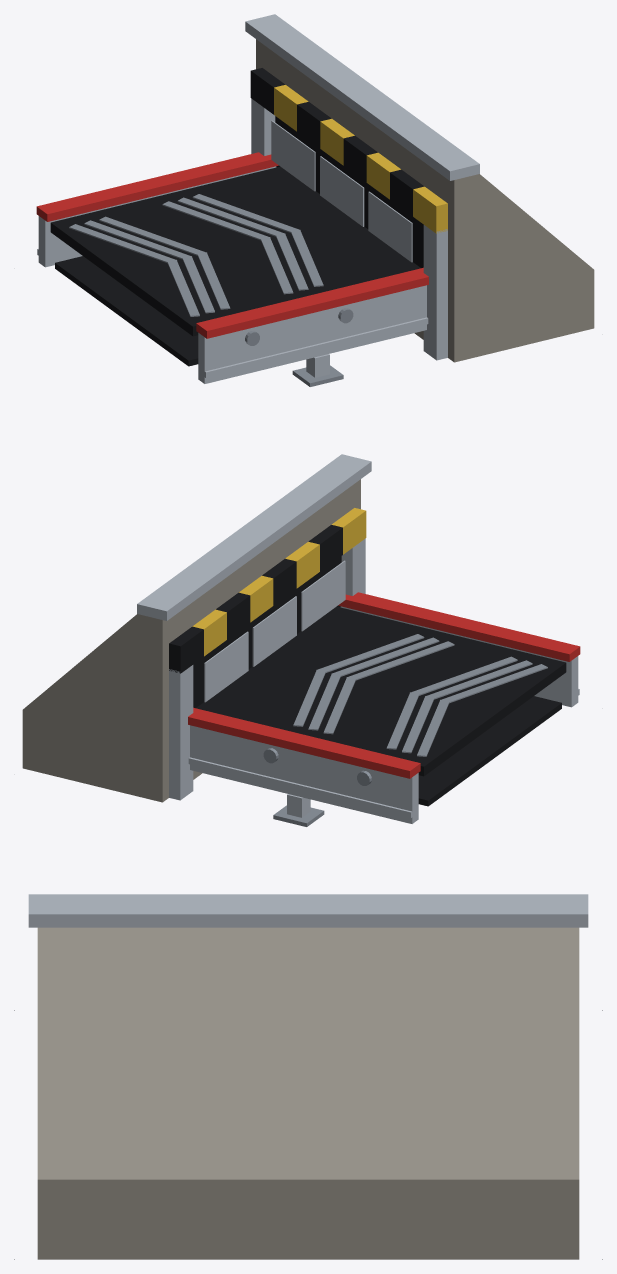
The model's file is convoyeur_tunnel_entree_t3.glb.
3 views of the same model, one above another, from view 1: azimuth 30°, elevation 25°; view 2: azimuth 150°, elevation 25°; view 3: azimuth 270°, elevation 25° (orthographic). The views are drawn at different scales.
Parts seen in each view (by area): view 1: pieces_noir.030, pieces_gris_clair.016, bouche.012, pieces_rive_t3.006, bande_acier.048, pieces_jaune.024, pieces_acier.054; view 2: pieces_noir.030, pieces_gris_clair.016, bouche.012, pieces_rive_t3.006, bande_acier.048, pieces_jaune.024, pieces_acier.054; view 3: bouche.012, pieces_gris_clair.016.
Part boxes in pixels (box(x1,y1,x2,y2)): pieces_noir.030: box(50, 68, 424, 366); pieces_gris_clair.016: box(37, 14, 479, 383); bouche.012: box(256, 39, 594, 362); pieces_rive_t3.006: box(36, 152, 428, 338); bande_acier.048: box(69, 194, 323, 316); pieces_jaune.024: box(274, 85, 447, 233); pieces_acier.054: box(245, 308, 353, 386); pieces_noir.030: box(169, 525, 566, 806); pieces_gris_clair.016: box(137, 454, 579, 823); bouche.012: box(22, 479, 360, 802); pieces_rive_t3.006: box(188, 592, 580, 778); bande_acier.048: box(293, 634, 547, 756); pieces_jaune.024: box(192, 508, 366, 656); pieces_acier.054: box(263, 748, 371, 826); bouche.012: box(37, 927, 579, 1259); pieces_gris_clair.016: box(28, 894, 588, 927).
Size of the model in its own units: 1 by 0.5 by 1.
